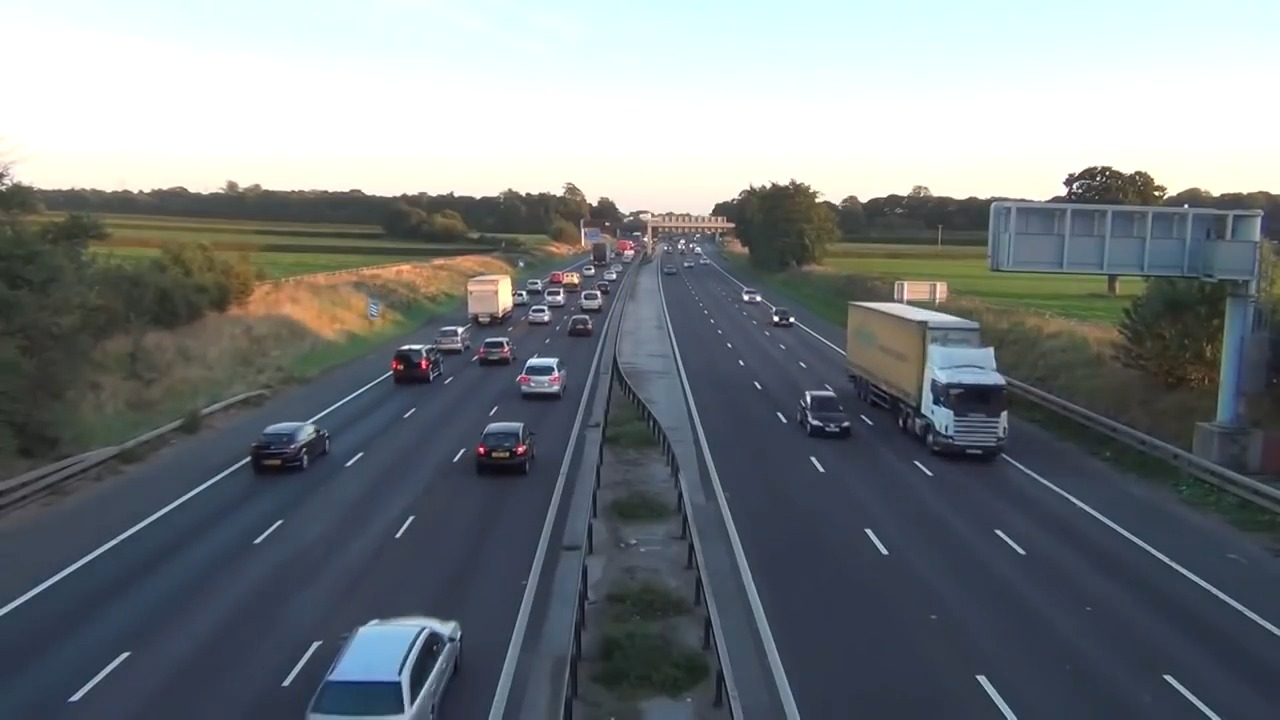truck: (845, 297, 1009, 455), (465, 277, 514, 323)
